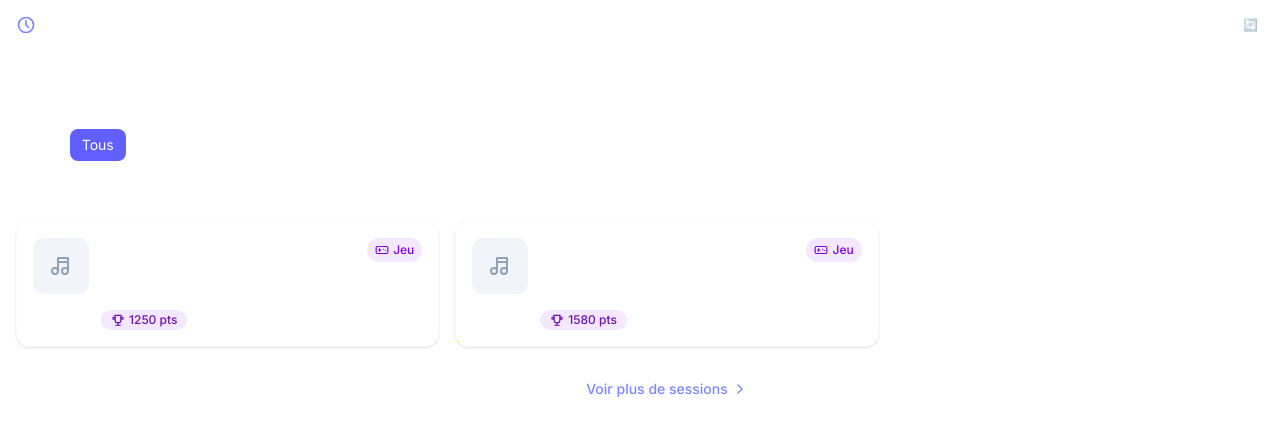
Test: HistoryStats Component (Refactored) › Bouton "Charger plus" › devrait afficher un spinner pendant le chargement de plus de sessions
What coordinates should you click on to do the following:
click the button "Voir plus de sessions"
I would click on:
 (667, 389)
Its box is [570,371,764,407].
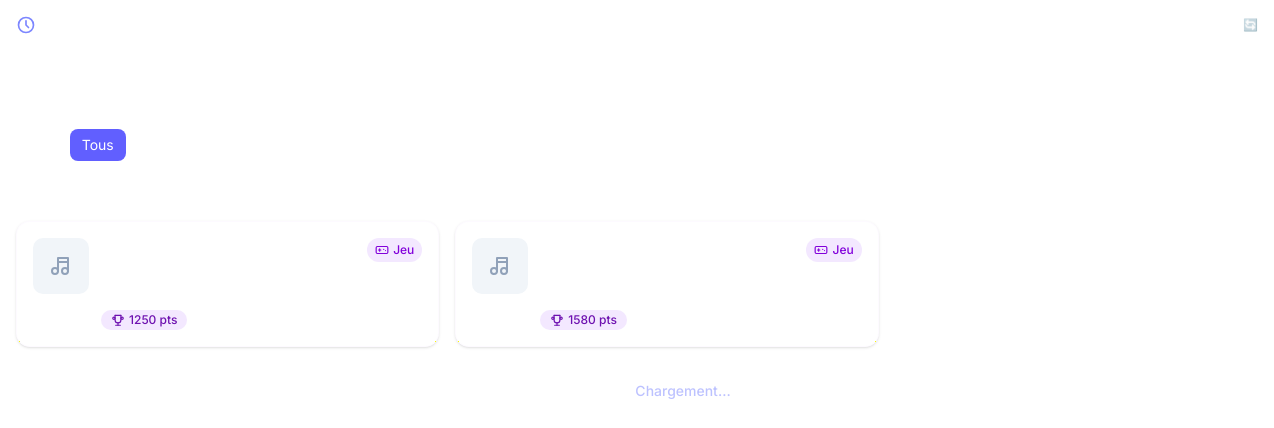
Result: the button "Chargement..." is shown at [587,371,747,411]
Result: the button "Voir plus de sessions" is gone
